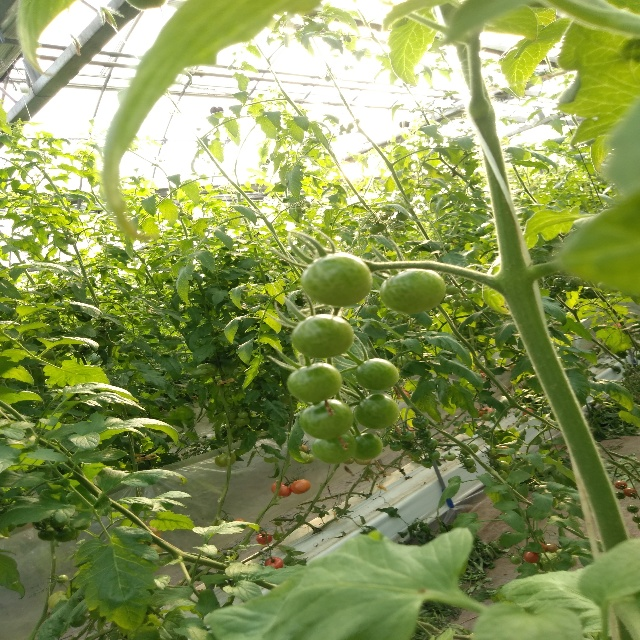l_fully_ripened: (271, 482, 291, 498), (265, 557, 283, 569), (256, 533, 273, 545), (524, 551, 538, 563)
l_green: (301, 253, 372, 307), (379, 268, 446, 314), (292, 314, 354, 358), (300, 399, 354, 440), (288, 363, 342, 403), (354, 394, 399, 429), (312, 433, 358, 465), (357, 358, 399, 390), (353, 433, 383, 461), (214, 451, 236, 467), (411, 416, 429, 429), (423, 437, 438, 449), (415, 428, 431, 439), (398, 431, 414, 441), (391, 429, 405, 440), (494, 460, 509, 470), (389, 441, 402, 451), (428, 450, 441, 459), (421, 459, 433, 468), (509, 555, 521, 564), (410, 449, 422, 457), (444, 453, 456, 461), (465, 458, 475, 467)
l_half_ripened: (290, 479, 310, 494), (545, 543, 557, 553)
